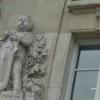Statue: (5, 8, 40, 96)
